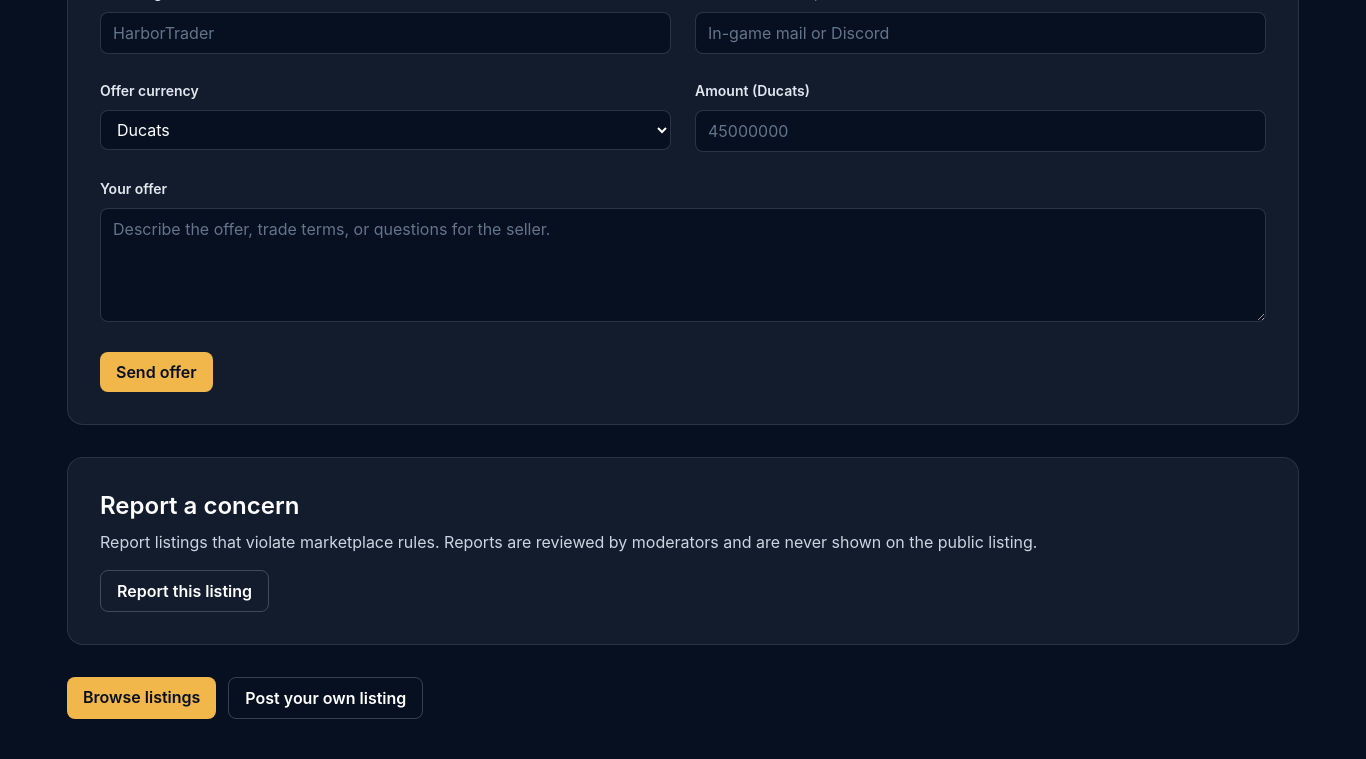
Scenario: listing detail page › requires a reporter name and reason before reporting
(page scrolled)
Click the button "Report this listing". click: coordinates (184, 591)
box: 100,570 -> 269,612
(page scrolled)
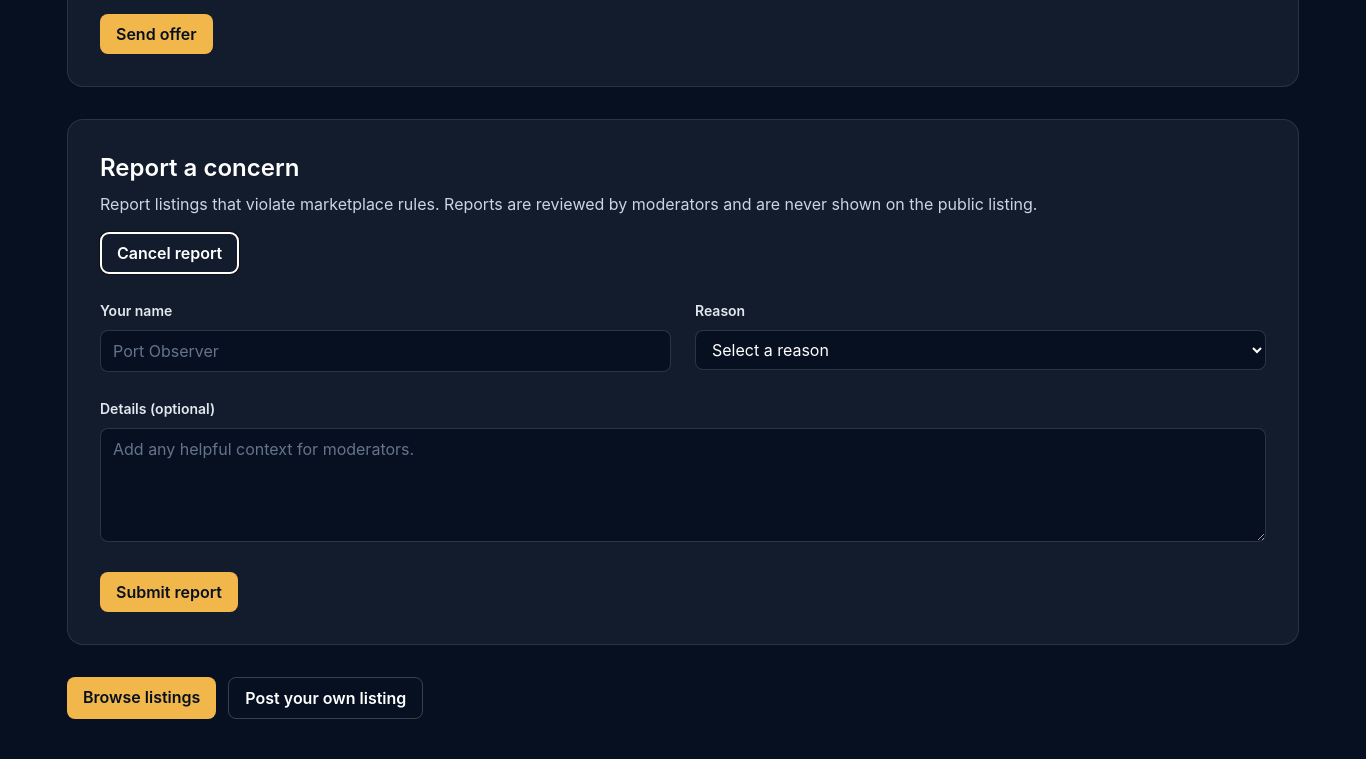
Click the button "Submit report". click: coordinates (169, 592)
box: 100,572 -> 238,612
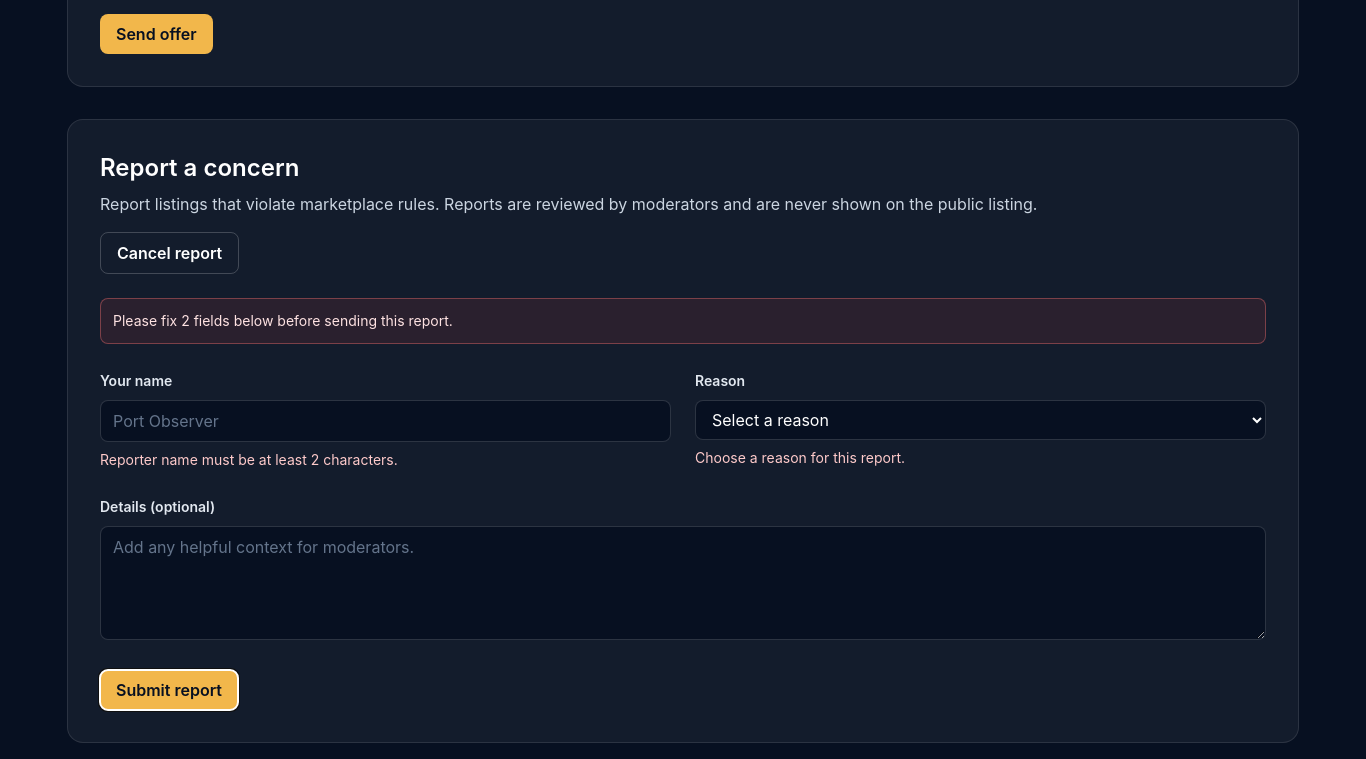
Result: the text "Reporter name must be at least 2 characters." is shown at 100,451 -> 398,468
Result: the text "Choose a reason for this report." is shown at 695,449 -> 905,466
